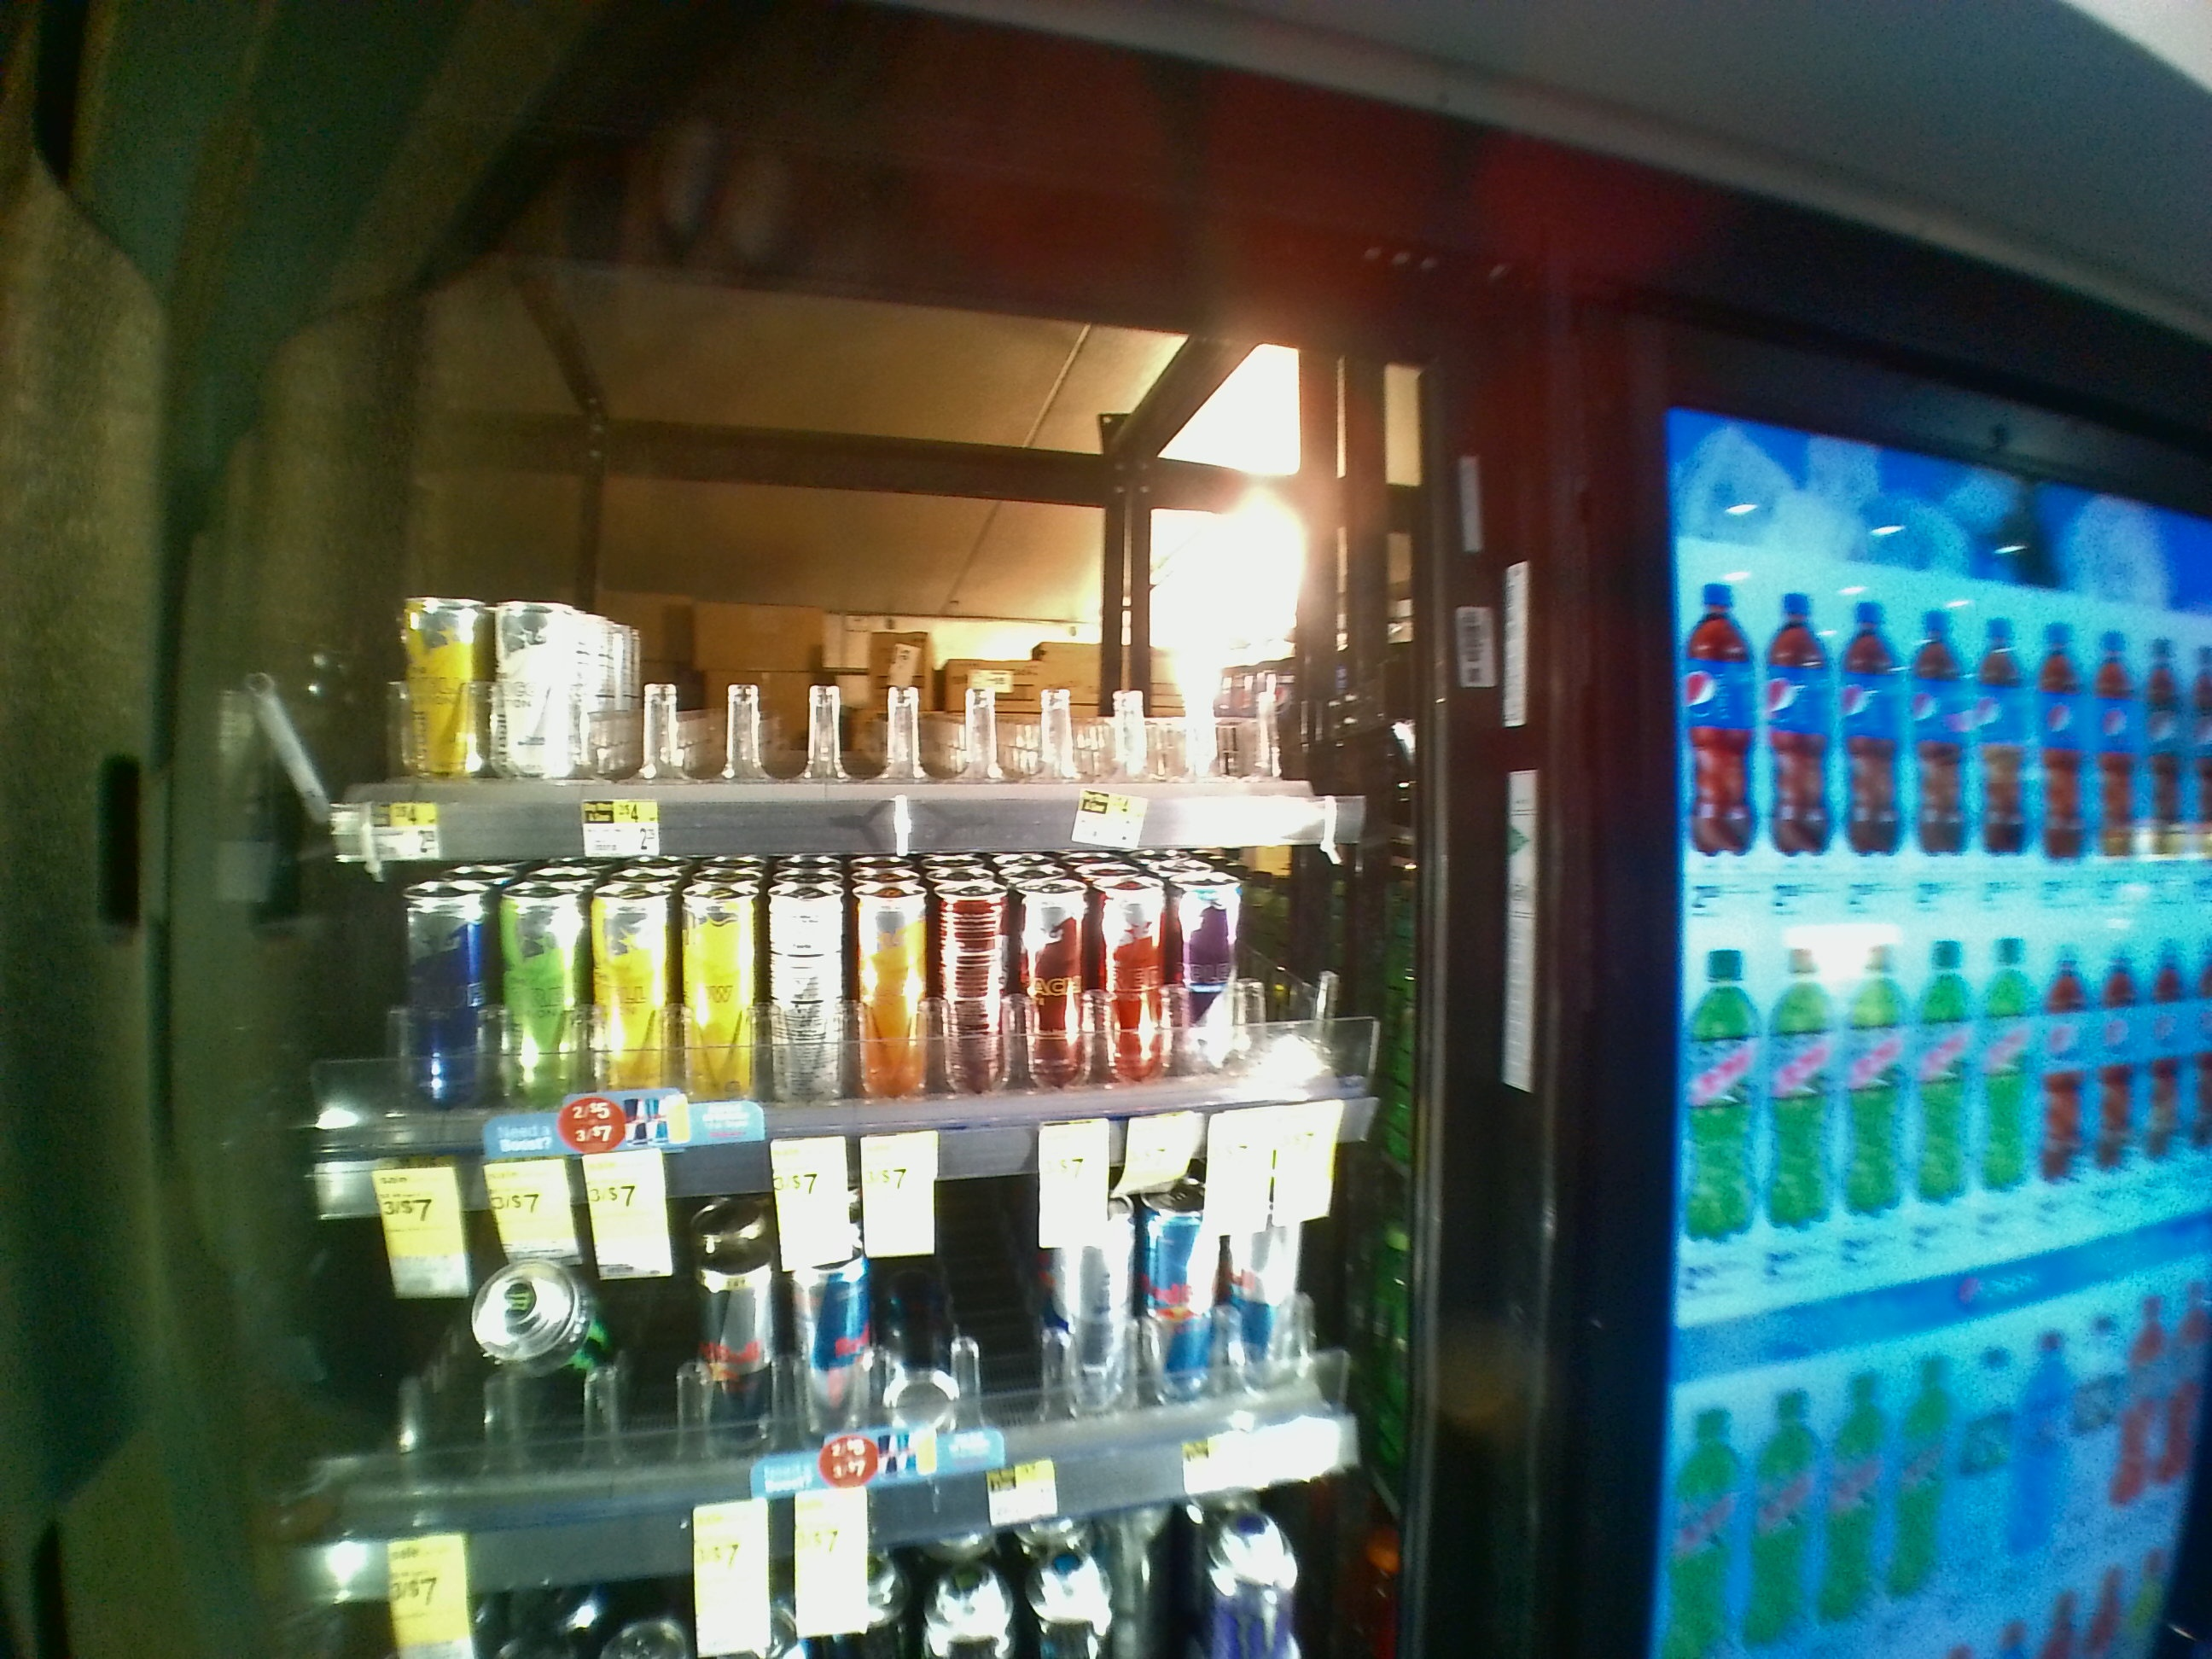shelf: (310, 268, 1439, 856), (301, 857, 1440, 1204)
